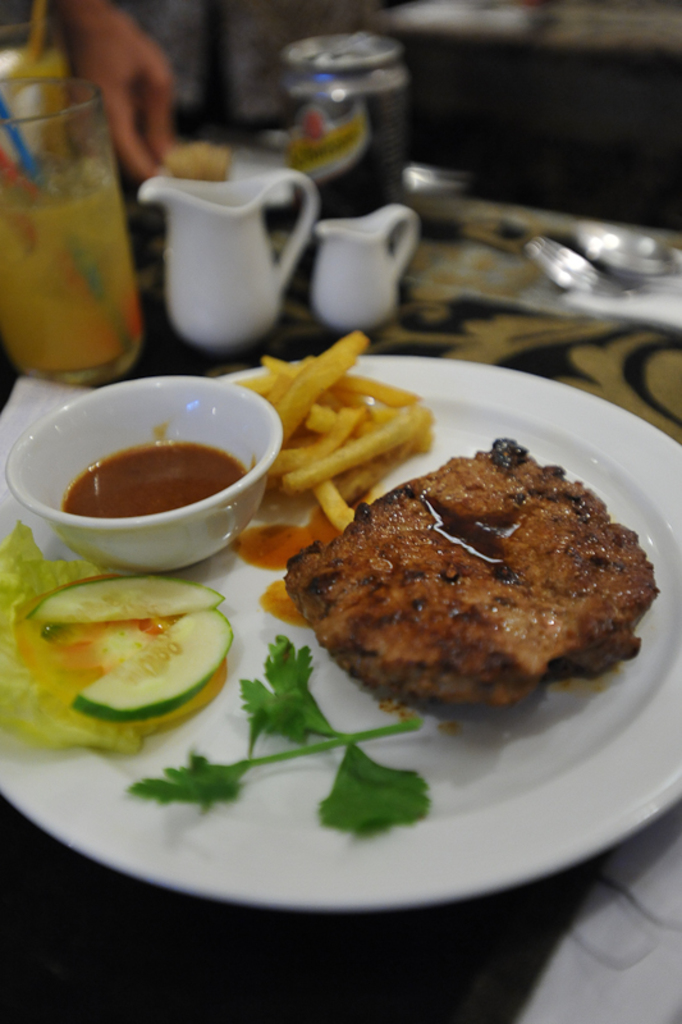French fries: (235, 326, 435, 520)
